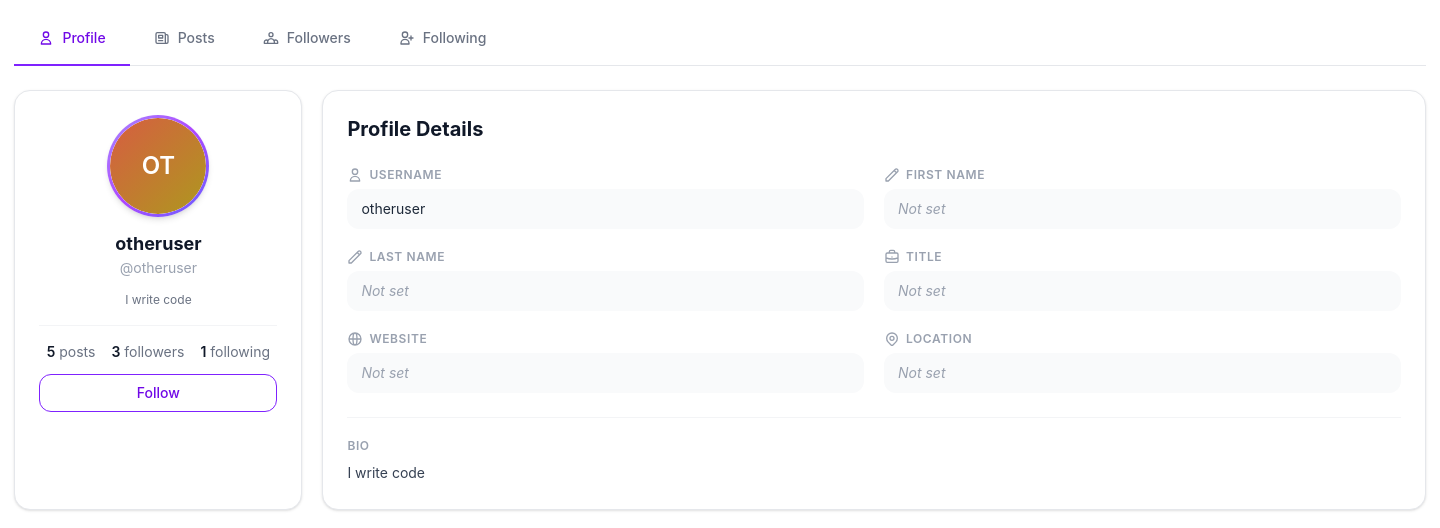
ProfilePage — other user (/user/:userId) › shows 'Not following anyone yet' on Following tab when empty
Expected: the text "@otheruser" is shown, [120,258,197,278]
Click the button "Following": point(443, 39) [375,12,510,66]
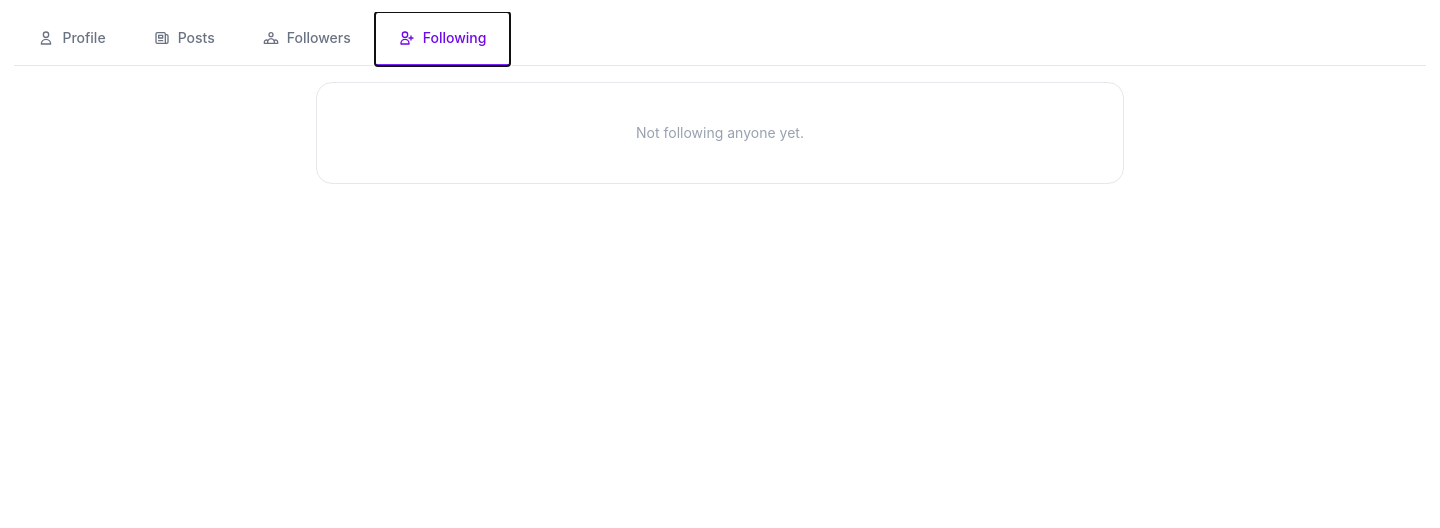
Now the text "Not following anyone yet." is shown, box [636,124,804,141]
